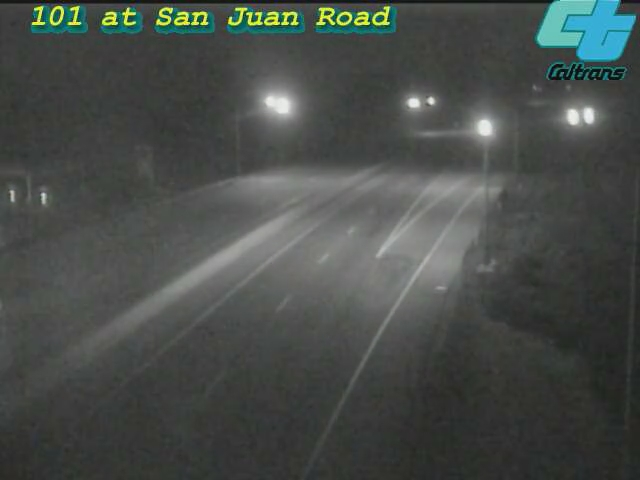vehicle: (463, 103, 513, 153), (546, 92, 596, 142), (563, 92, 613, 142)
